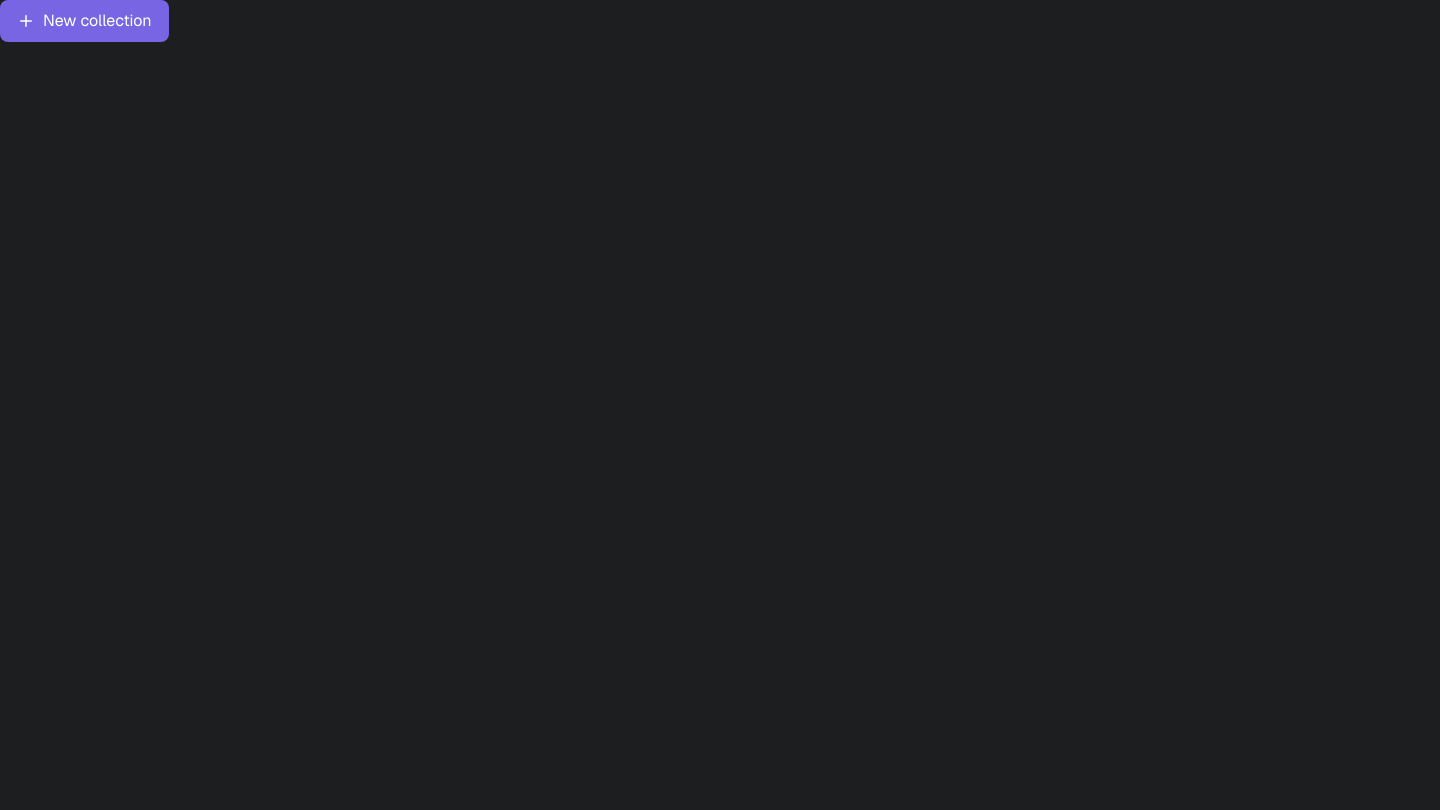
Scenario: CreateCollectionButton › is a "New collection" button that opens the dialog, offering the books on the shelf
This screenshot has width=1440, height=810.
Click the button "New collection" at (84, 21), box [0, 0, 168, 42]
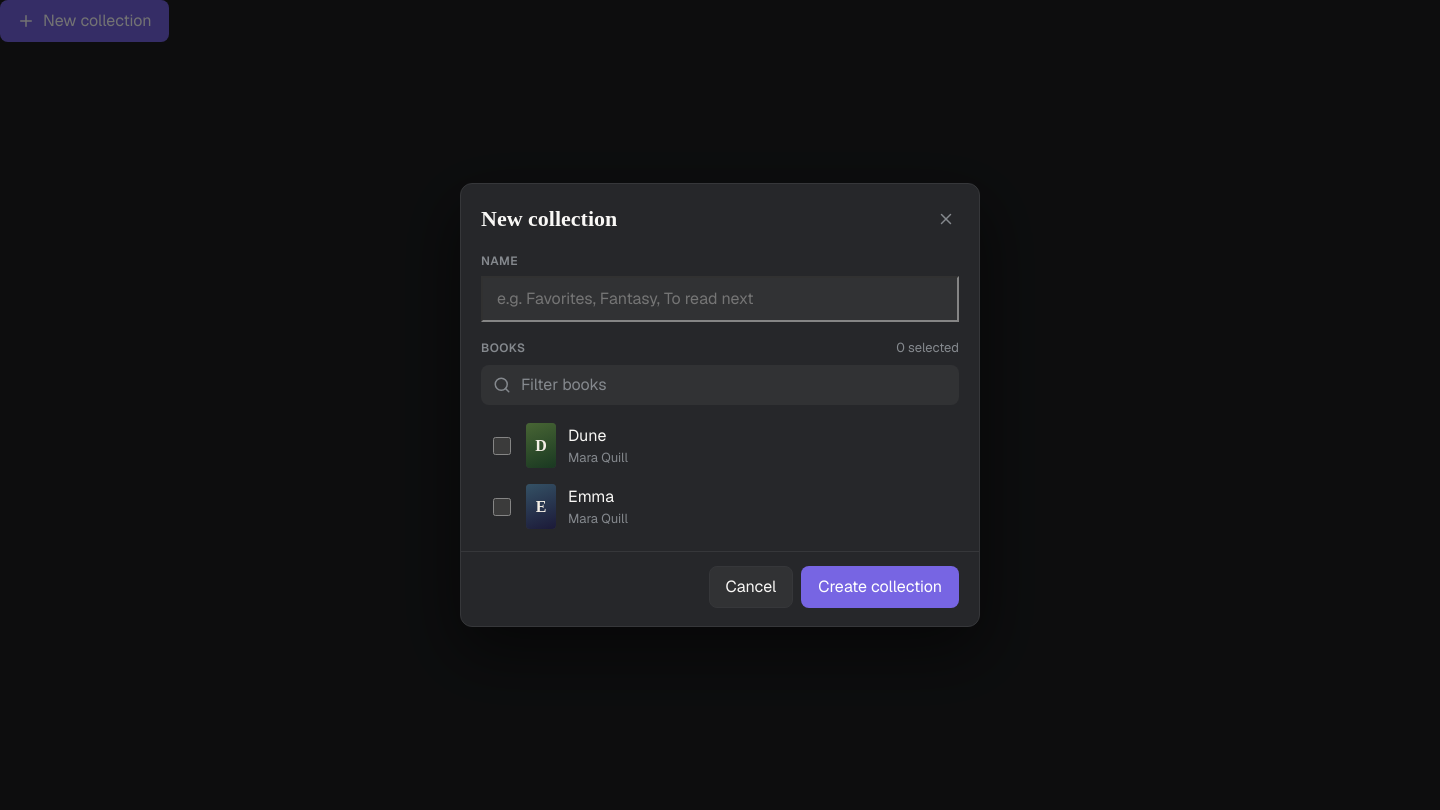
expect the checkbox labelled "Dune" is shown: met, box [493, 437, 511, 455]
expect the checkbox labelled "Emma" is shown: met, box [493, 498, 511, 516]
